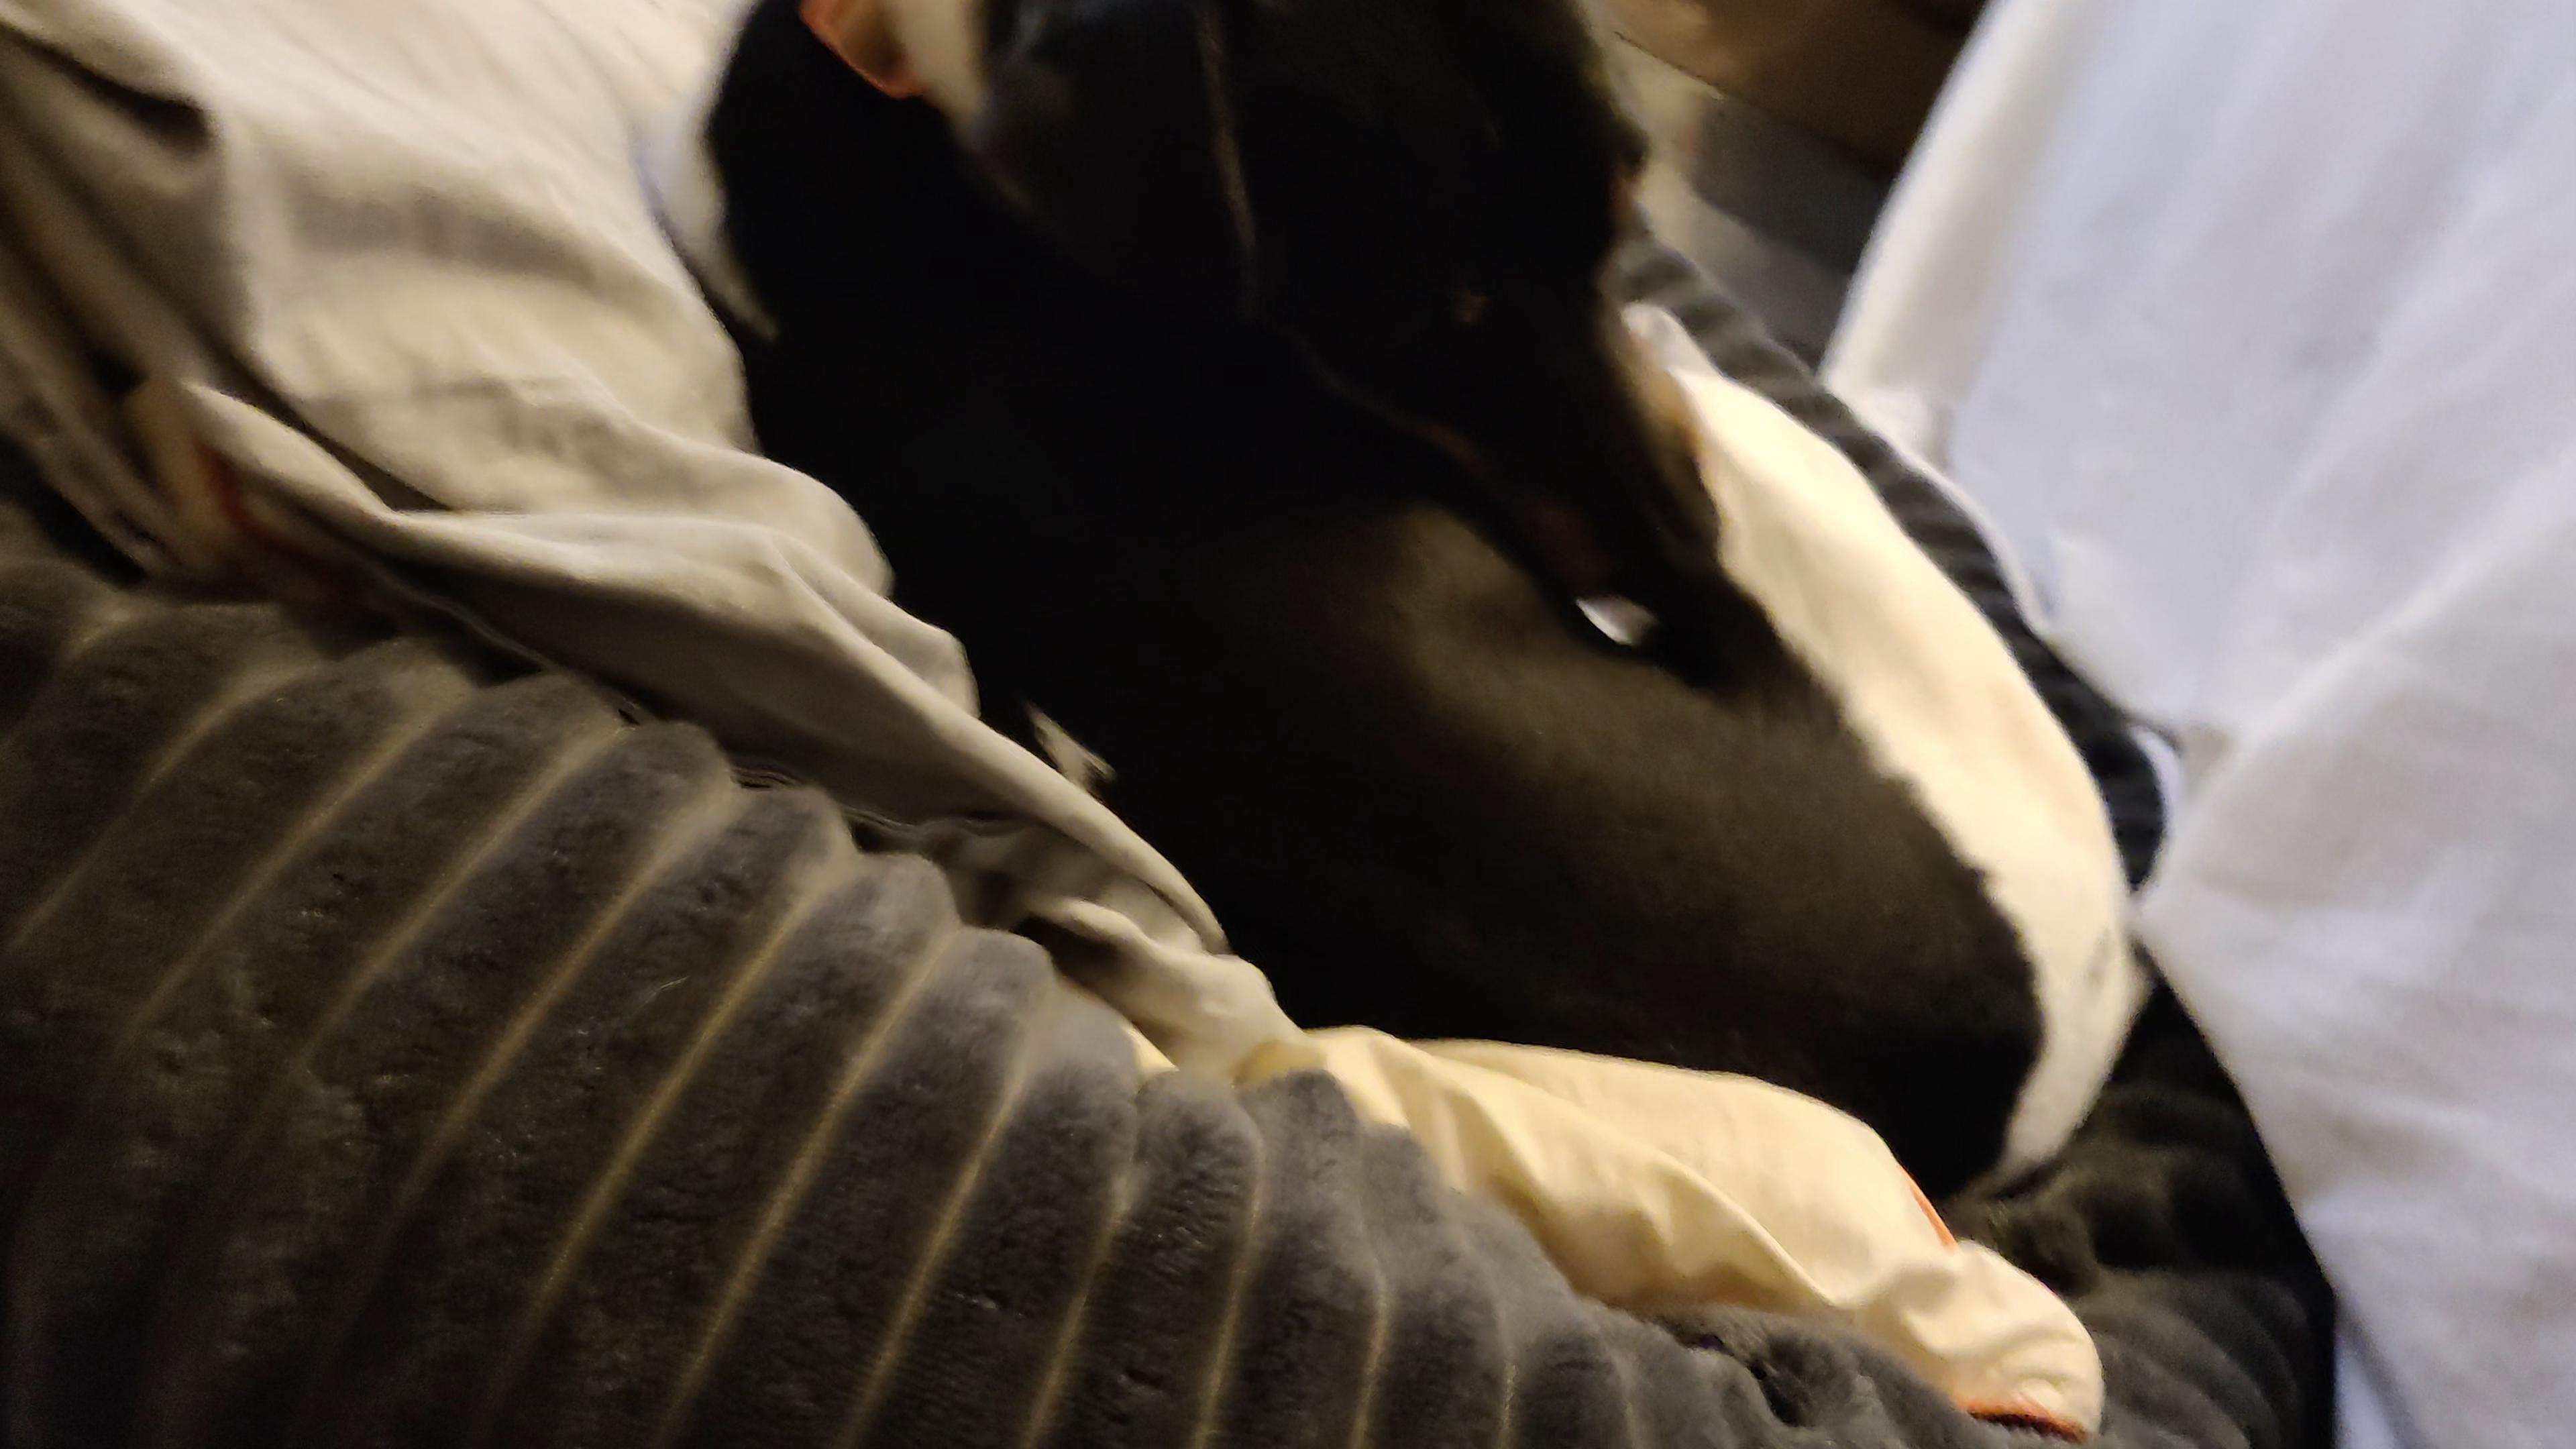Dog: (644, 0, 2151, 1240)
